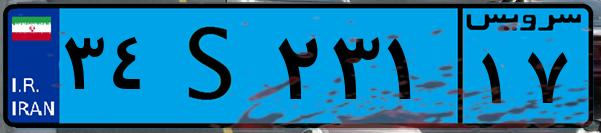1: (385, 28, 445, 110), (475, 38, 525, 113)
2: (270, 28, 330, 110)
3: (330, 28, 385, 110), (57, 26, 110, 100)
4: (110, 28, 158, 98)
7: (525, 38, 570, 115)
S: (158, 12, 270, 120)
